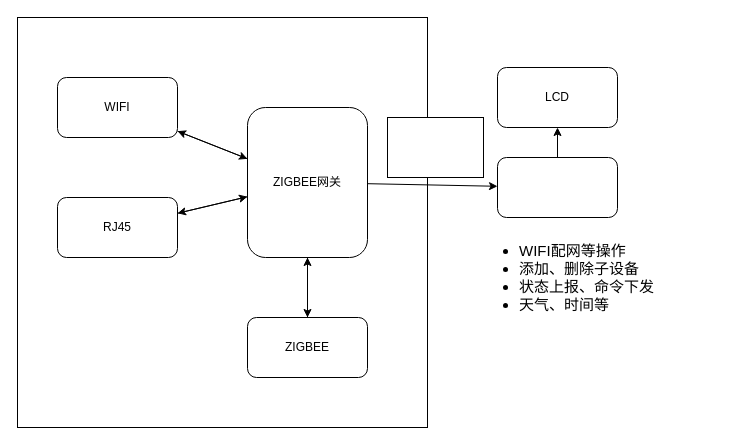
The diagram is 745 pixels wide and 445 high, and some of its shapes have lost their labels. Each missing label, with the centre of its shape:
"MCU" goes at [557,187].
"TUYA网关、MCU对接协议" goes at [435,147].
